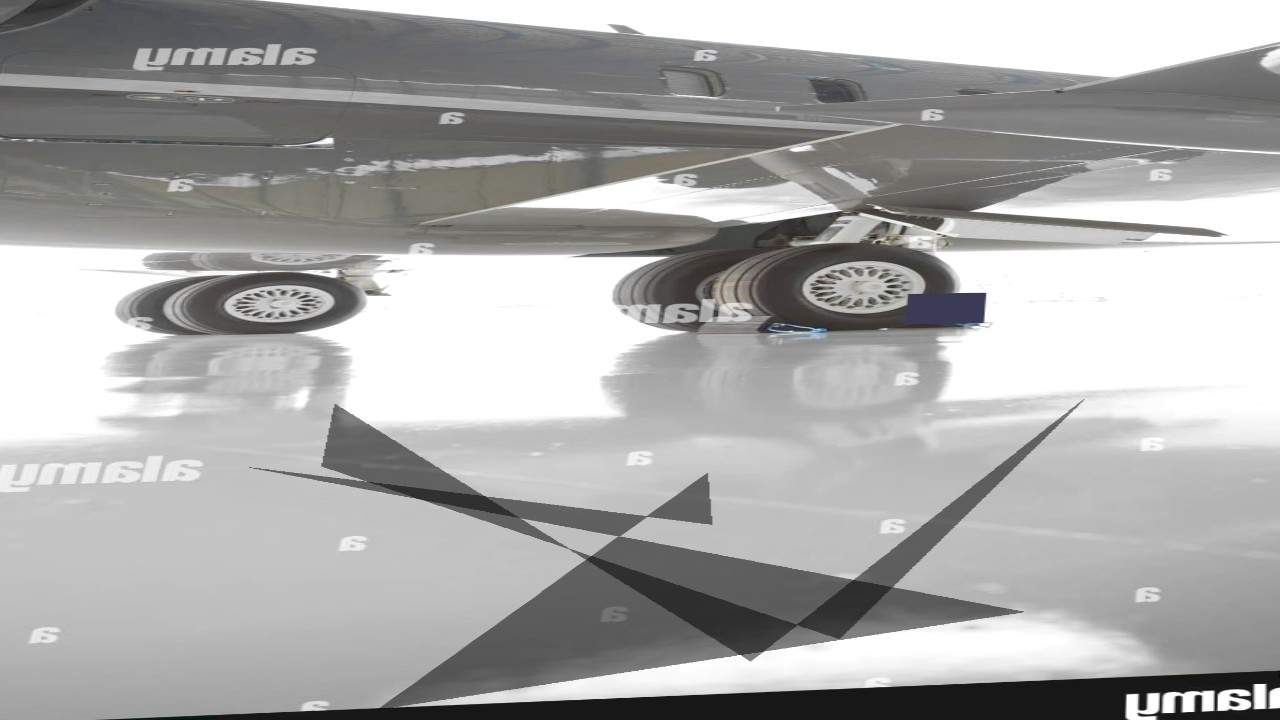chock: (684, 312, 822, 339), (870, 307, 987, 330)
wheel: (718, 241, 968, 331), (115, 270, 377, 337), (609, 249, 786, 333), (108, 275, 249, 334)
